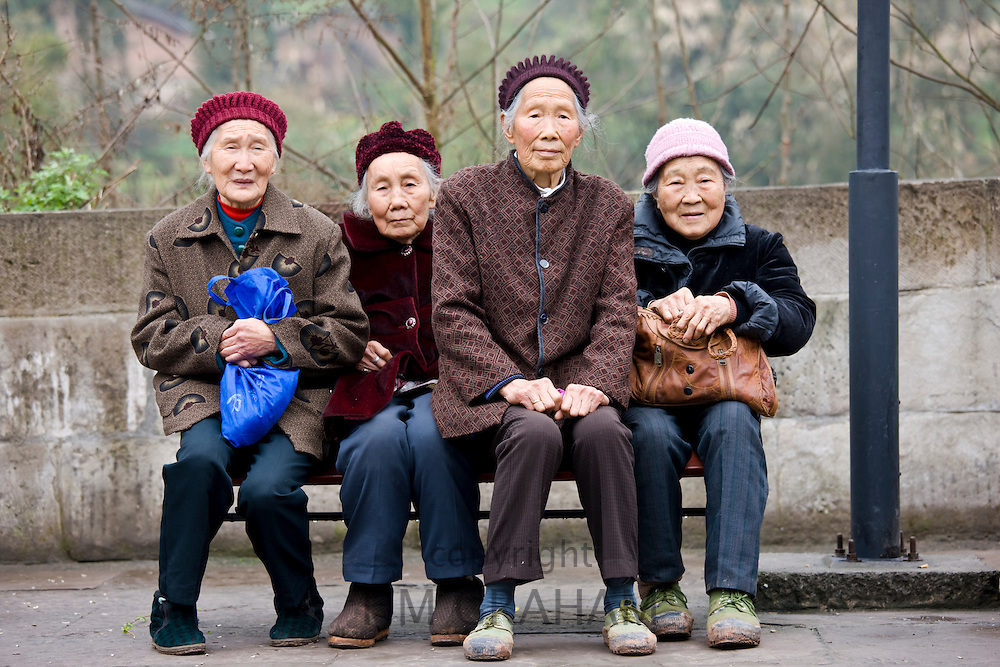Person: (409, 25, 669, 667), (122, 81, 364, 656), (615, 109, 822, 667), (323, 114, 501, 667)
